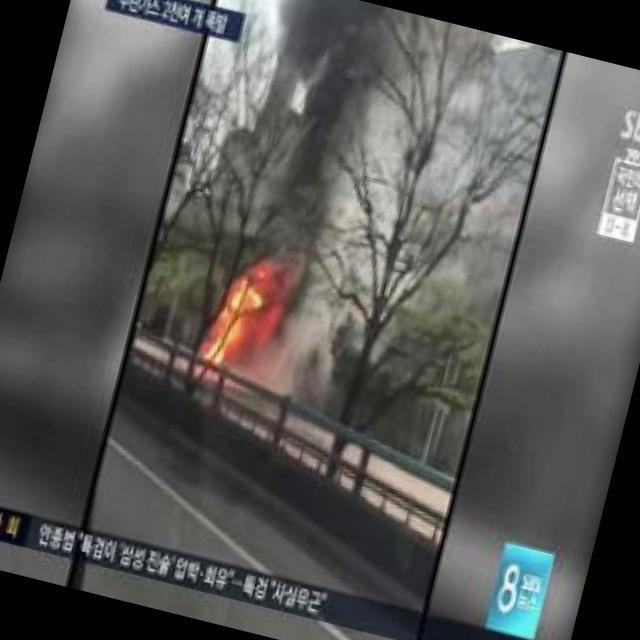Fire: (197, 261, 299, 377)
